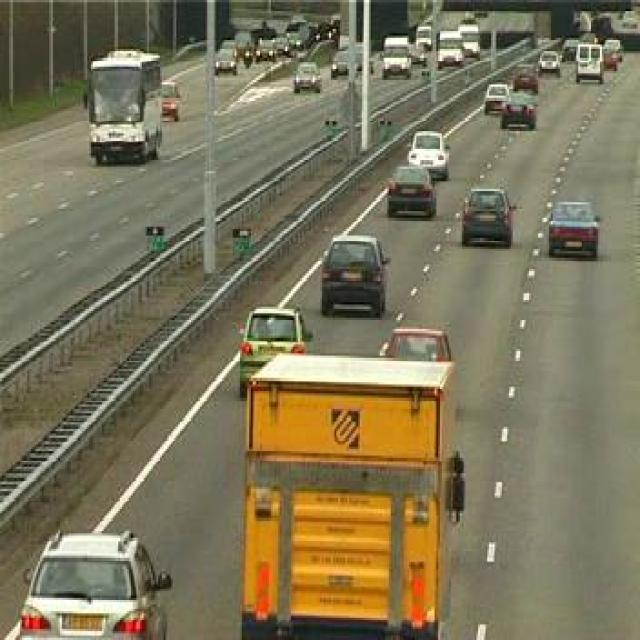other: (235, 340, 474, 636)
